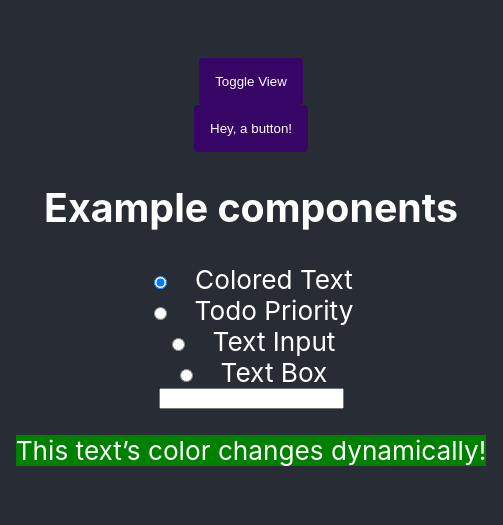
Test case: dummy test is toggled
Click the button "Hey, a button!": (251, 128) [194, 105, 308, 152]
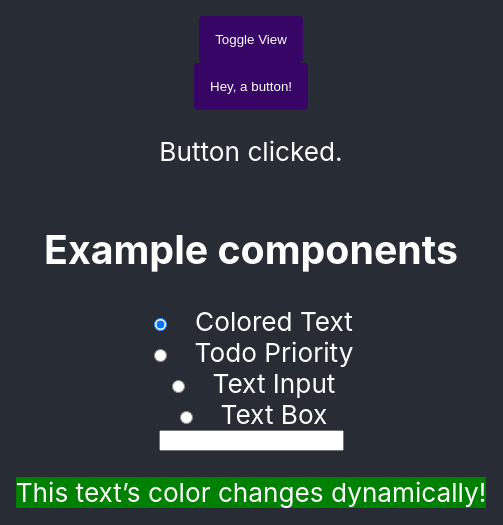
Click the button "Hey, a button!": (251, 86) [194, 63, 308, 110]
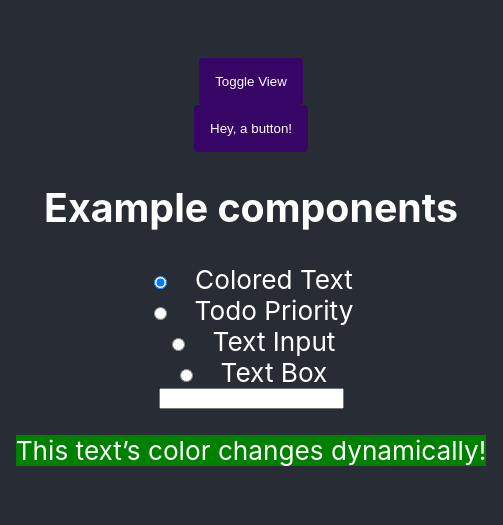
Expected: the text "Button clicked." is gone
